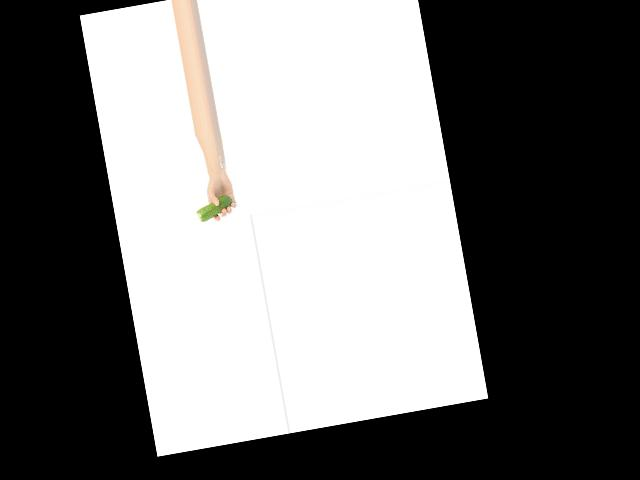cucumber: (194, 194, 235, 222)
